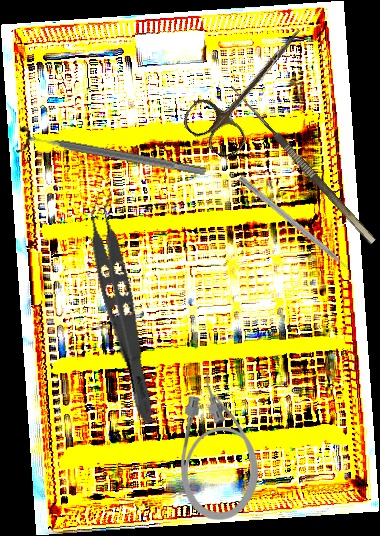Cannula: (181, 373, 258, 520)
Chopper: (233, 175, 357, 283)
Fixation Ring: (15, 123, 209, 187)
Hook Surgical: (220, 82, 377, 253)
Iris Scissors: (178, 7, 322, 164)
Tissue Forceps: (76, 188, 175, 428)
